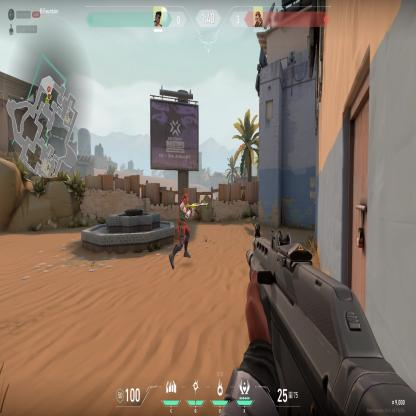enemy: (169, 191, 193, 273)
